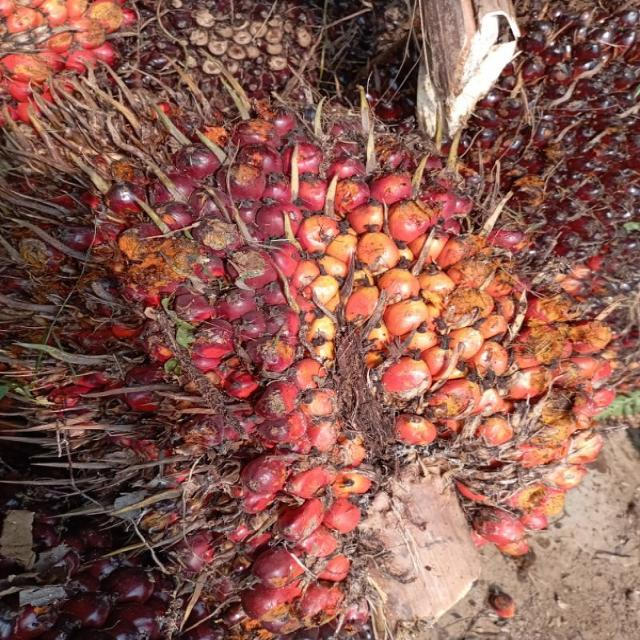fraksi 3: (12, 70, 639, 640)
